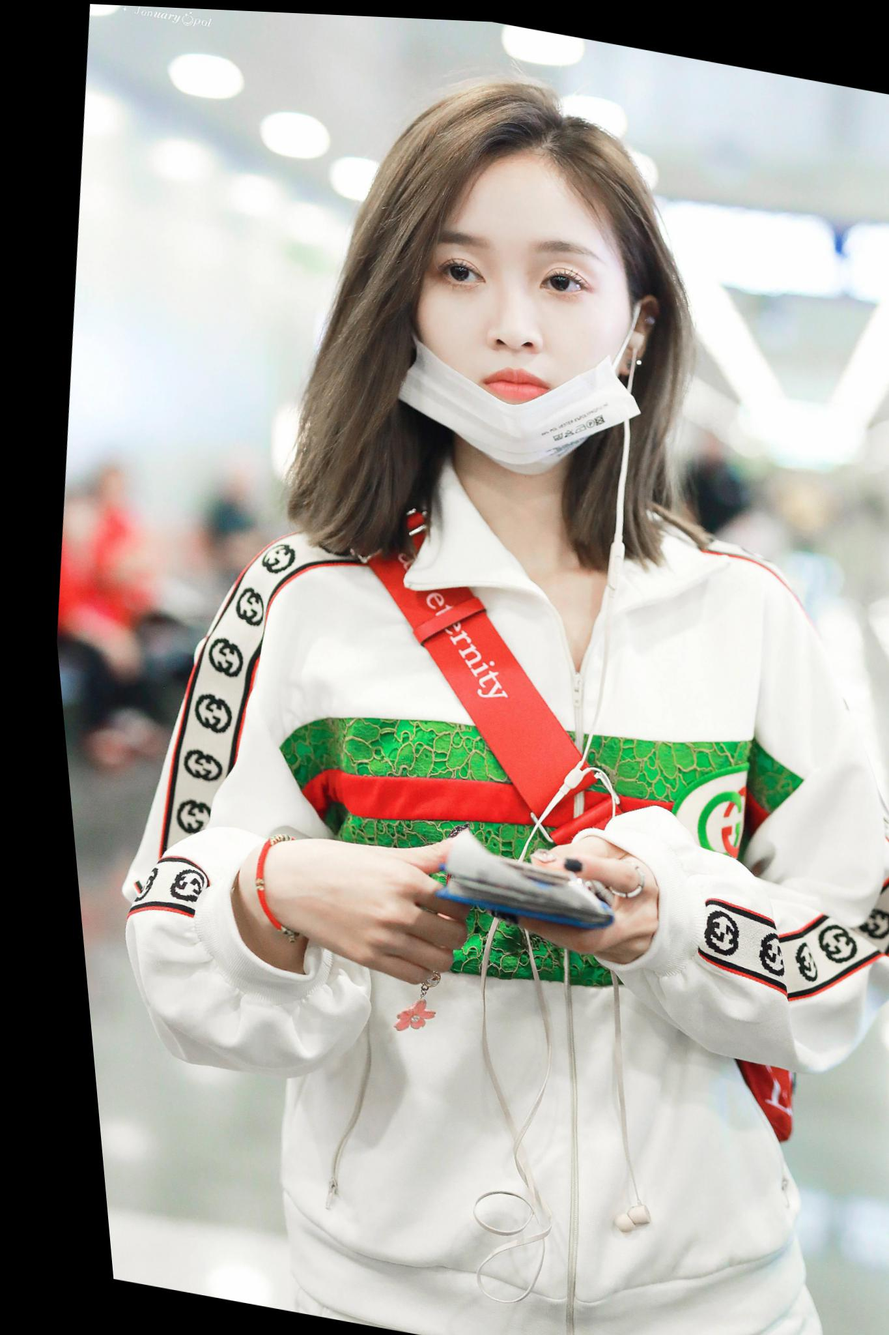WRONG: (372, 161, 647, 473)
